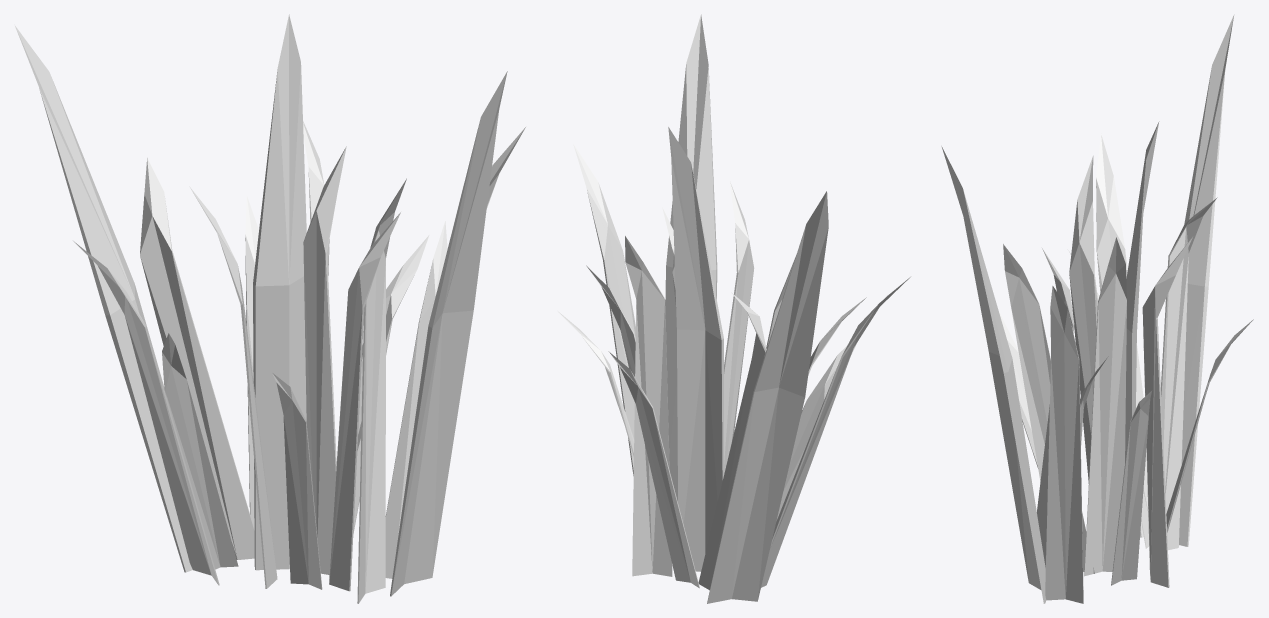
Rendered from Env_Grass_Patch_Yellow_04.glb.
3 views of the same model, side by side, from view 1: azimuth 30°, elevation 25°; view 2: azimuth 150°, elevation 25°; view 3: azimuth 270°, elevation 25° (orthographic). The views are drawn at different scales.
Parts seen in each view (by area): view 1: Env_Grass_Patch_Yellow_04; view 2: Env_Grass_Patch_Yellow_04; view 3: Env_Grass_Patch_Yellow_04.
Part boxes in pixels (bbox=[...]): Env_Grass_Patch_Yellow_04: bbox=[15, 14, 525, 603]; Env_Grass_Patch_Yellow_04: bbox=[558, 14, 910, 603]; Env_Grass_Patch_Yellow_04: bbox=[941, 14, 1253, 603].
Size of the model in its own units: 0.45 by 0.5523 by 0.3376.
Materials: 1 (1 with a texture image).
